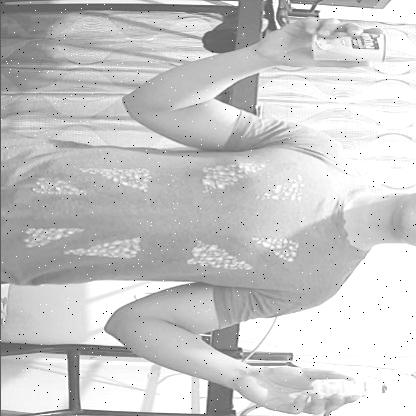Others: (306, 368, 395, 405)
